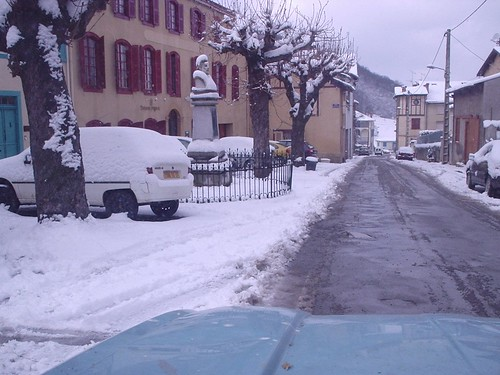building: (76, 4, 261, 170), (262, 60, 355, 167), (452, 45, 500, 169), (395, 76, 450, 149)
car: (1, 118, 190, 213)
road: (230, 156, 500, 312)
tree: (211, 2, 312, 173), (271, 41, 350, 168)
